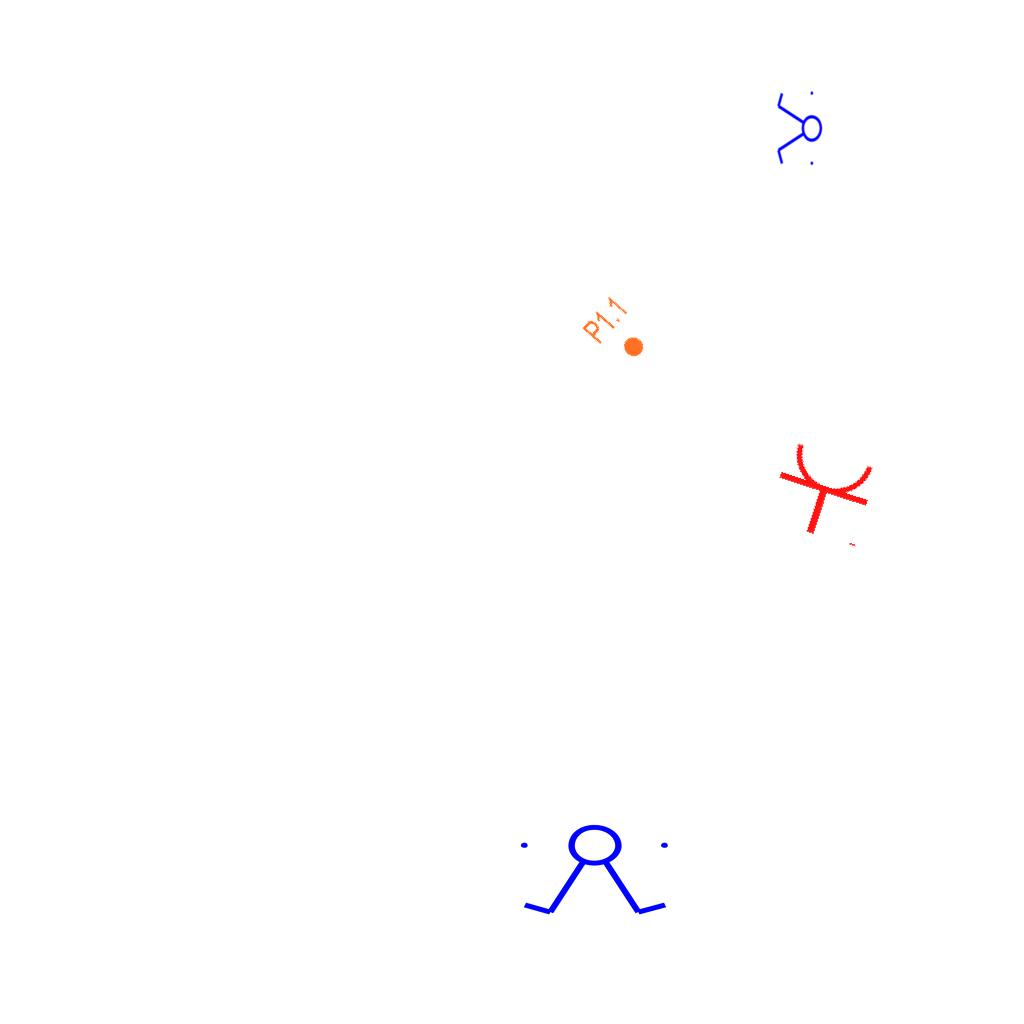Downlight_LED_Einbauleuchten_Flur: (579, 293, 659, 371)
Schukosteckdose_einfach: (763, 437, 886, 551)
Serienschalter: (512, 823, 680, 919), (775, 87, 823, 171)
